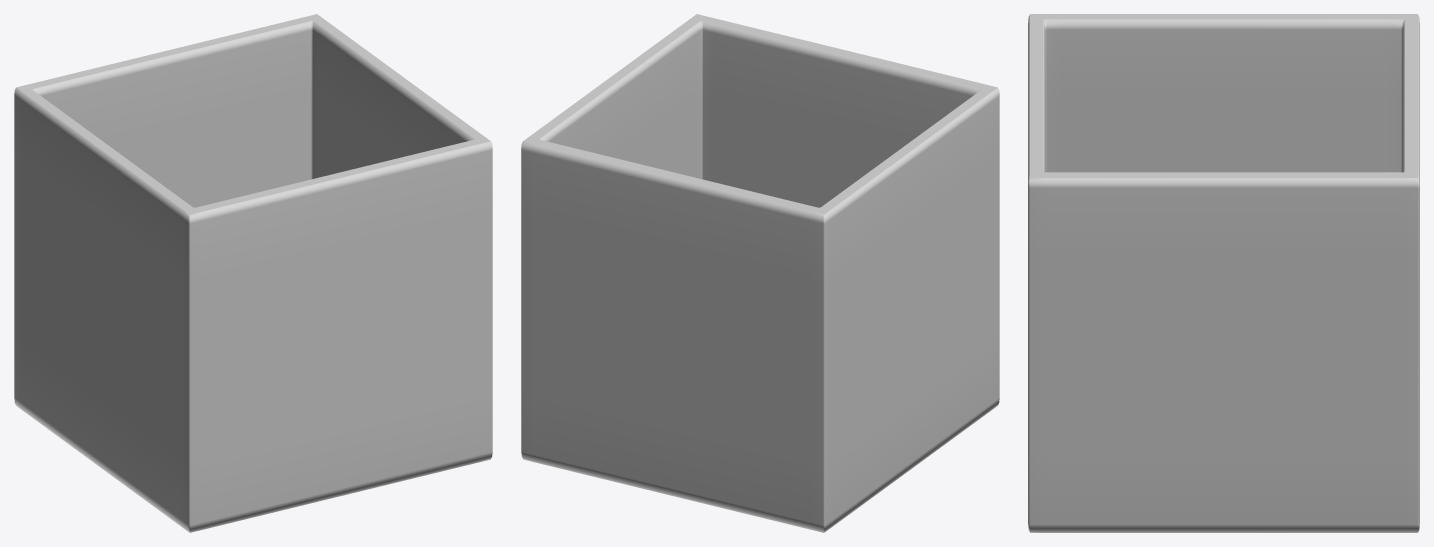
The model's file is ScalableMesh_Ground__22.fbx.
3 views of the same model, side by side, from view 1: azimuth 30°, elevation 25°; view 2: azimuth 150°, elevation 25°; view 3: azimuth 270°, elevation 25° (orthographic). The views are drawn at different scales.
Parts seen in each view (by area): view 1: Mat_Tile_Color_03 2; view 2: Mat_Tile_Color_03 2; view 3: Mat_Tile_Color_03 2.
Part boxes in pixels (<box>): Mat_Tile_Color_03 2: <box>14,14,492,532</box>; Mat_Tile_Color_03 2: <box>521,14,999,532</box>; Mat_Tile_Color_03 2: <box>1028,14,1419,532</box>.
Bounding box in the file's own units: 1 × 1 × 1.
Materials: 1 (1 with a texture image).
